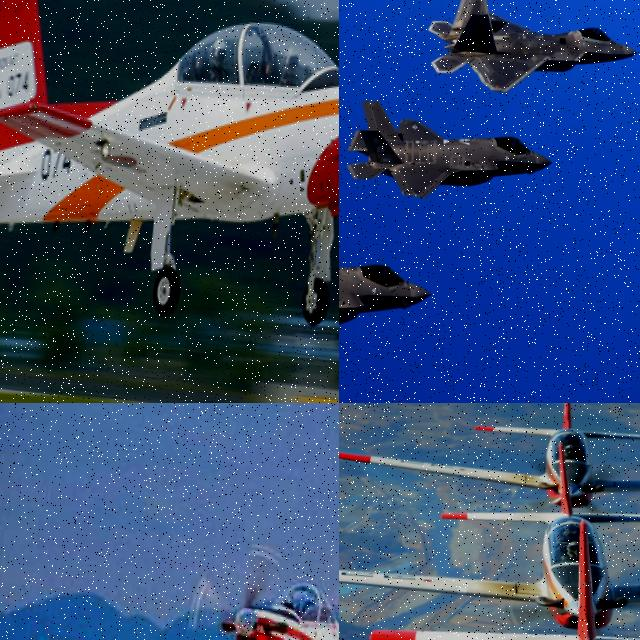F22: (342, 95, 557, 221), (423, 0, 640, 113), (339, 218, 441, 381)
KT-1: (0, 0, 339, 356), (339, 419, 640, 640), (339, 486, 640, 640), (339, 403, 640, 531), (29, 532, 339, 640)
